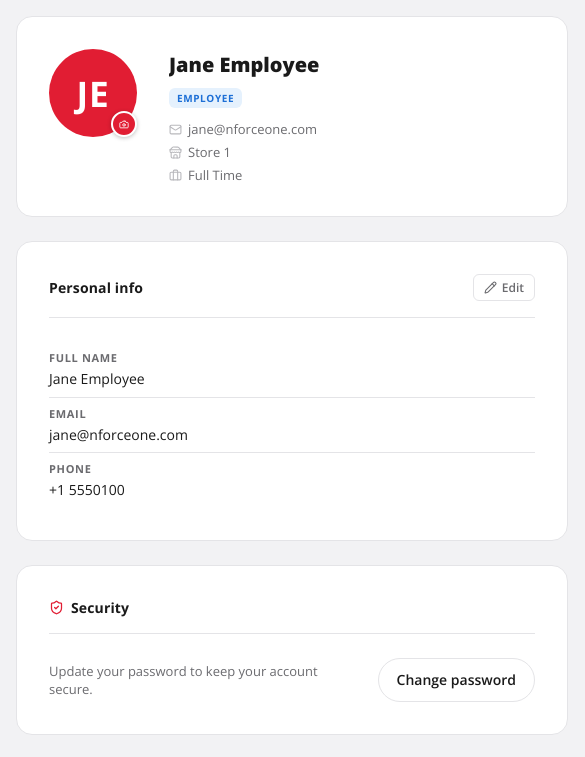
Profile change password section › expands inline when "Change password" is clicked — no modal dialog
Check: the heading "Jane Employee" is shown, box [169, 51, 319, 78]
Click the button "Change password" at {"x": 456, "y": 680}, box [378, 658, 535, 702]
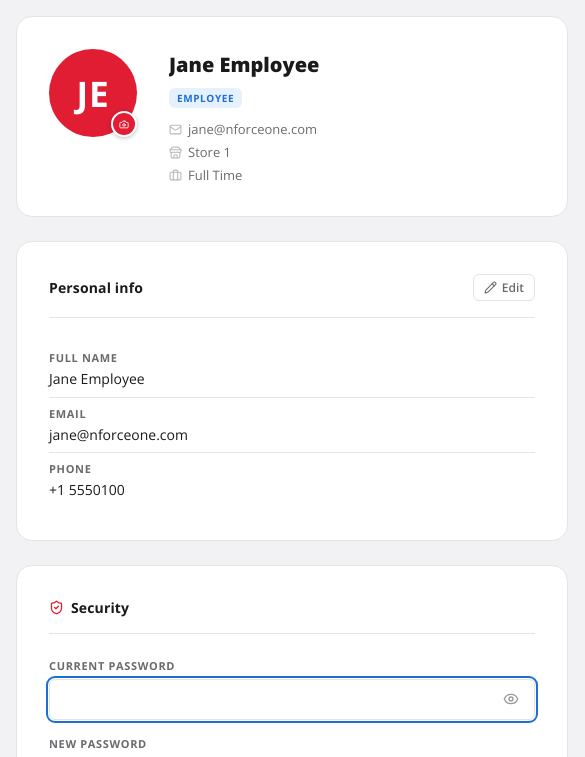
Check: the password field labelled "Current password" is shown, box [49, 679, 535, 720]
